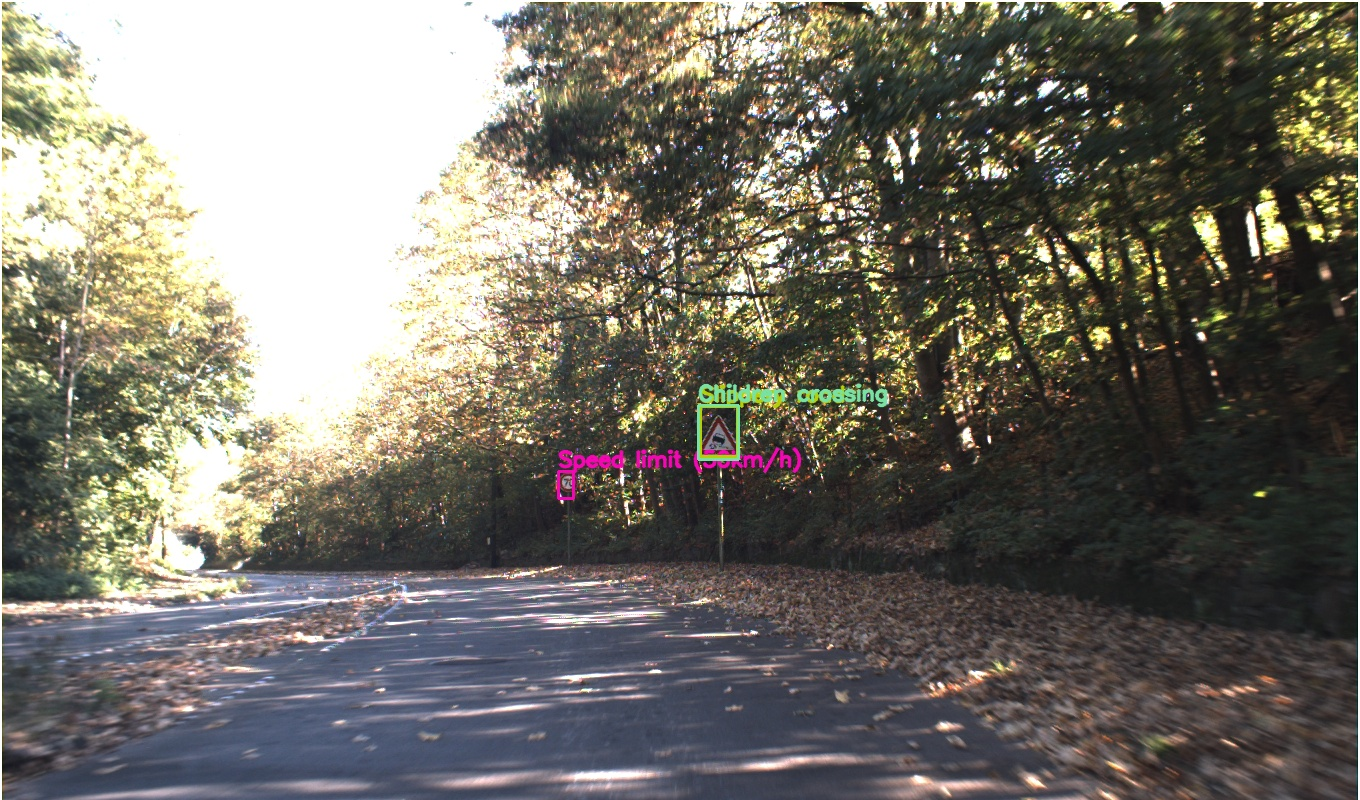No passing: (973, 377, 1022, 427)
